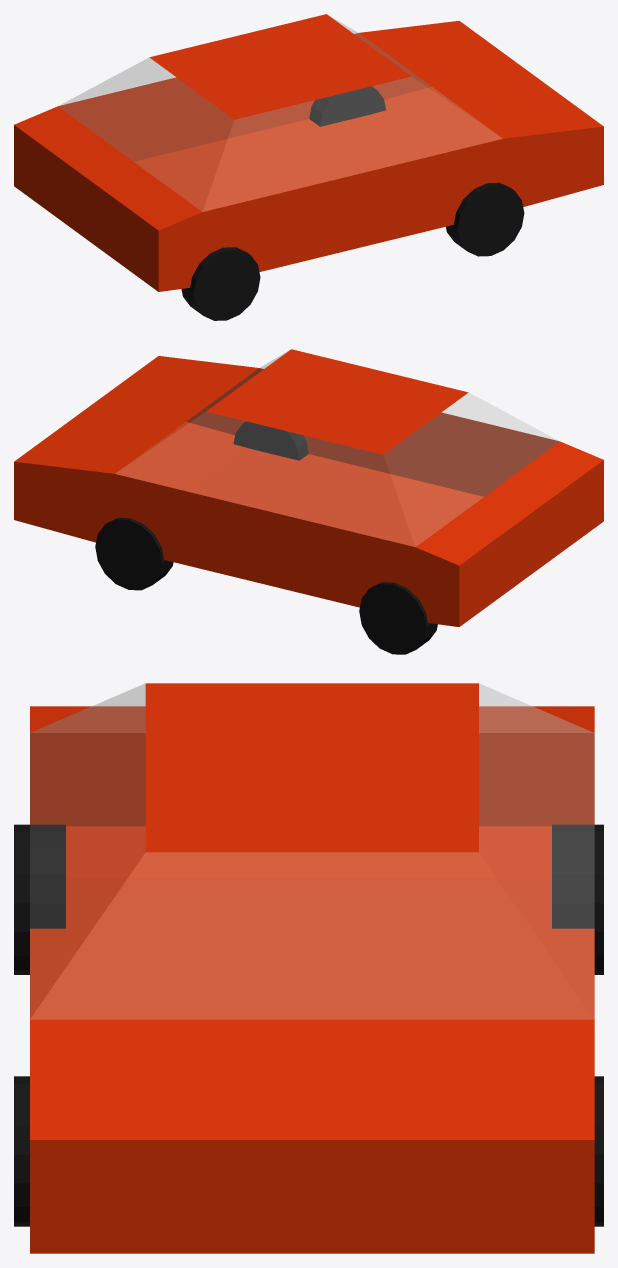
File: TestCar.gltf
3 renders of one model, top to bottom at view 1: azimuth 30°, elevation 25°; view 2: azimuth 150°, elevation 25°; view 3: azimuth 270°, elevation 25°, orthographic. The views are drawn at different scales.
Visible parts, largest first — view 1: TestCar, taiya; view 2: TestCar, taiya; view 3: TestCar, taiya.
Boxes of the visible parts, x1,y1,x2,y2 form: TestCar: (14,14,603,291); taiya: (181,86,524,320); TestCar: (14,349,603,626); taiya: (95,421,437,654); TestCar: (30,683,594,1253); taiya: (14,824,603,1226).
Bounding box in the file's own units: 4.45 × 1.58 × 2.61.
